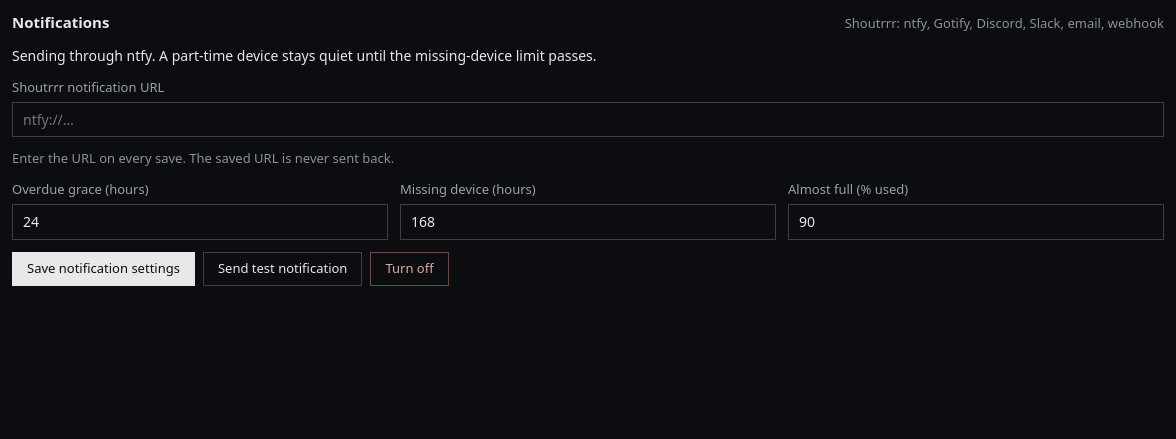
Test: retries the exact unconfirmed settings while other changes stay disabled
Type "ntfy://private-topic" into the password field labelled "Shoutrrr notification URL" at (588, 120), box [12,102,1164,138]
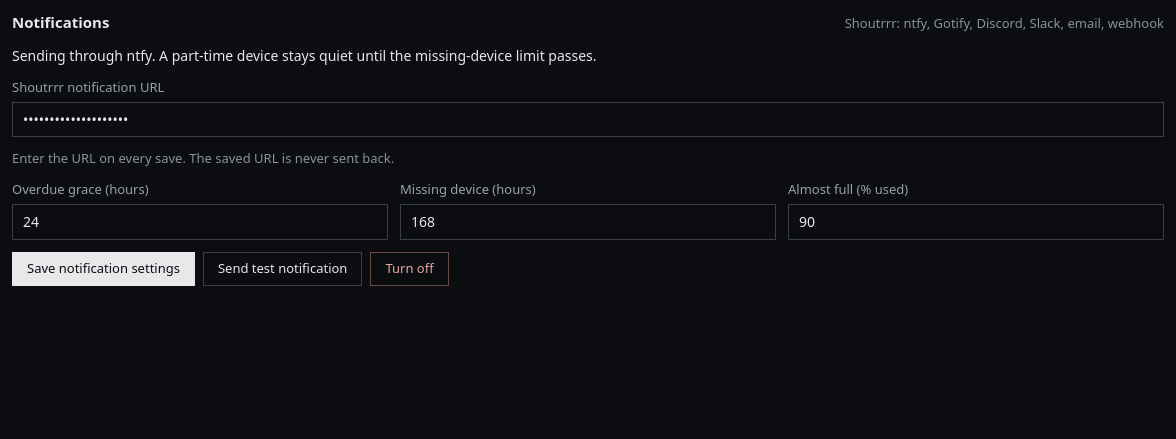
Click the button "Save notification settings" at (103, 269), box [12,252,195,286]
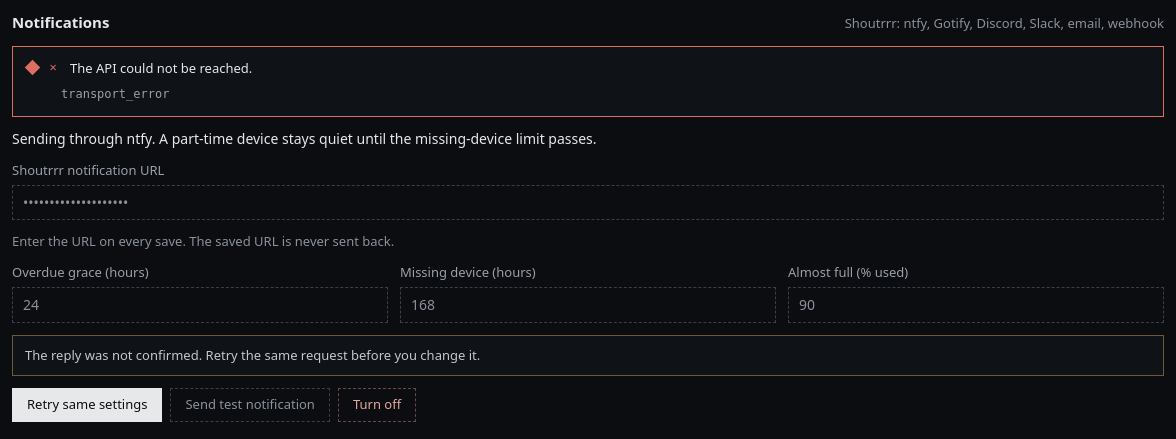
Expected: the button "Turn off" is disabled, [338,388,416,422]
Expected: the button "Send test notification" is disabled, [170,388,330,422]
Click the button "Retry same settings" at (87, 404), box [12,388,162,422]
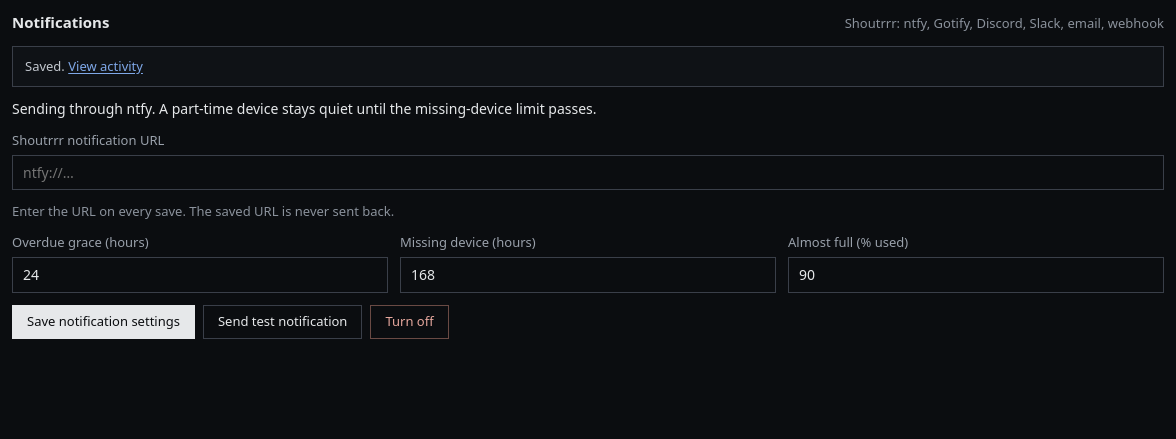
Expected: the text "Saved. View activity" is shown, [12,46,1164,87]
